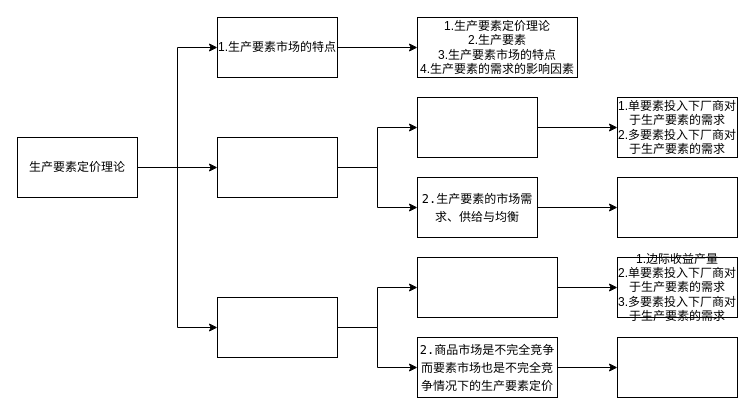
Some shapes in this 755 by 415 pixel diagram are drawn without their labels. Here are the shapes that lost their labels. From the top down, the centre of each, then its label:
the point at 477,127: 1.单个厂商对于生产要素的需求
the point at 277,167: 2.完全竞争市场的生产要素定价
the point at 487,287: 1.商品市场是不完全竞争而要素市场是完全竞争情况下的生产要素定价
the point at 277,327: 3.不完全竞争市场的生产要素定价
